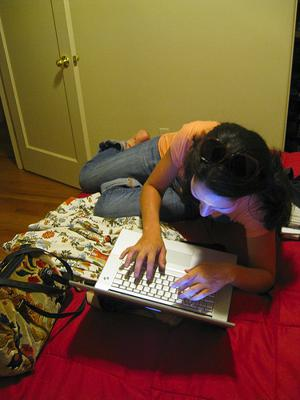person: (79, 119, 298, 302)
